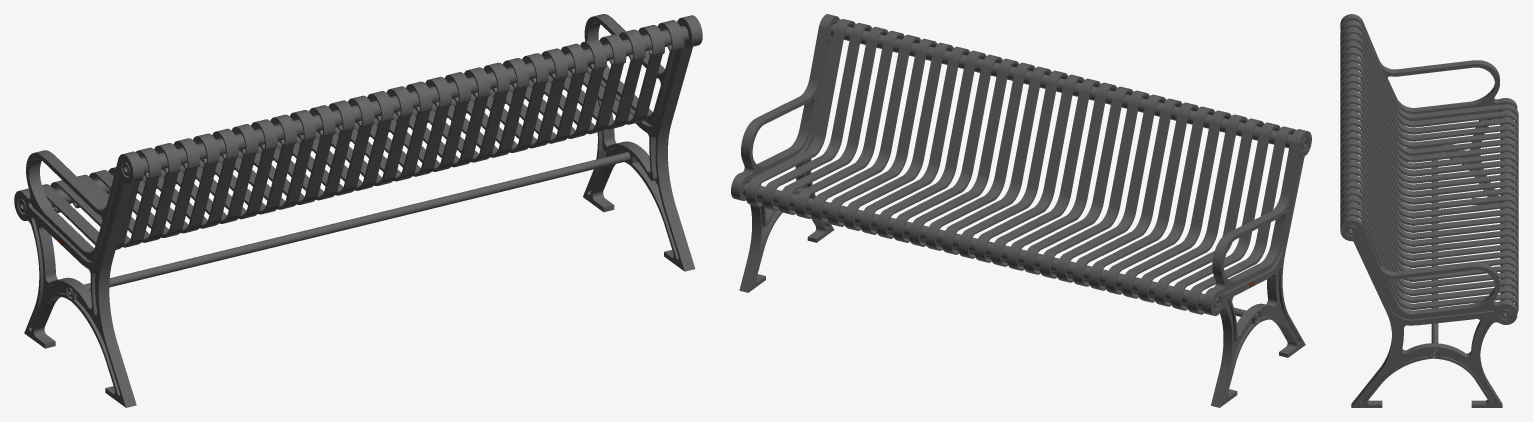
The picture shows the model from 3 angles, left to right: view 1: azimuth 30°, elevation 25°; view 2: azimuth 150°, elevation 25°; view 3: azimuth 270°, elevation 25°; orthographic projection. The views are drawn at different scales.
Visible parts, largest first — view 1: mesh95_mesh95-geometry, mesh1_mesh1-geometry, mesh94_mesh94-geometry, mesh132_mesh132-geometry, mesh78_mesh78-geometry, mesh46_mesh46-geometry, mesh36_mesh36-geometry, mesh48_mesh48-geometry, mesh66_mesh66-geometry, mesh64_mesh64-geometry, mesh60_mesh60-geometry, mesh70_mesh70-geometry (+21 smaller); view 2: mesh95_mesh95-geometry, mesh1_mesh1-geometry, mesh133_mesh133-geometry, mesh132_mesh132-geometry, mesh34_mesh34-geometry, mesh50_mesh50-geometry, mesh76_mesh76-geometry, mesh84_mesh84-geometry, mesh44_mesh44-geometry, mesh70_mesh70-geometry, mesh64_mesh64-geometry, mesh66_mesh66-geometry (+20 smaller); view 3: mesh1_mesh1-geometry, mesh95_mesh95-geometry, mesh36_mesh36-geometry, mesh38_mesh38-geometry, mesh42_mesh42-geometry, mesh54_mesh54-geometry, mesh80_mesh80-geometry, mesh46_mesh46-geometry, mesh56_mesh56-geometry, mesh62_mesh62-geometry, mesh66_mesh66-geometry, mesh68_mesh68-geometry (+21 smaller).
Part boxes in pixels (x1=…): mesh95_mesh95-geometry: x1=14, y1=150, x2=143, y2=407; mesh1_mesh1-geometry: x1=582, y1=14, x2=702, y2=271; mesh94_mesh94-geometry: x1=84, y1=152, x2=630, y2=291; mesh132_mesh132-geometry: x1=140, y1=26, x2=688, y2=174; mesh78_mesh78-geometry: x1=50, y1=143, x2=180, y2=247; mesh46_mesh46-geometry: x1=73, y1=138, x2=200, y2=242; mesh36_mesh36-geometry: x1=89, y1=133, x2=219, y2=237; mesh48_mesh48-geometry: x1=42, y1=147, x2=161, y2=249; mesh66_mesh66-geometry: x1=108, y1=128, x2=238, y2=233; mesh64_mesh64-geometry: x1=137, y1=124, x2=258, y2=228; mesh60_mesh60-geometry: x1=350, y1=72, x2=471, y2=176; mesh70_mesh70-geometry: x1=195, y1=110, x2=316, y2=214; mesh95_mesh95-geometry: x1=1202, y1=129, x2=1311, y2=407; mesh1_mesh1-geometry: x1=731, y1=14, x2=839, y2=292; mesh133_mesh133-geometry: x1=742, y1=182, x2=1204, y2=307; mesh132_mesh132-geometry: x1=830, y1=23, x2=1292, y2=148; mesh34_mesh34-geometry: x1=958, y1=70, x2=1067, y2=258; mesh50_mesh50-geometry: x1=860, y1=46, x2=969, y2=234; mesh76_mesh76-geometry: x1=1007, y1=82, x2=1116, y2=270; mesh84_mesh84-geometry: x1=909, y1=58, x2=1018, y2=246; mesh44_mesh44-geometry: x1=746, y1=19, x2=855, y2=206; mesh70_mesh70-geometry: x1=1056, y1=94, x2=1165, y2=282; mesh64_mesh64-geometry: x1=1105, y1=106, x2=1214, y2=294; mesh66_mesh66-geometry: x1=1121, y1=110, x2=1231, y2=298; mesh1_mesh1-geometry: x1=1340, y1=216, x2=1517, y2=407; mesh95_mesh95-geometry: x1=1340, y1=14, x2=1517, y2=205; mesh36_mesh36-geometry: x1=1340, y1=41, x2=1518, y2=148; mesh38_mesh38-geometry: x1=1340, y1=83, x2=1518, y2=190; mesh42_mesh42-geometry: x1=1340, y1=62, x2=1518, y2=169; mesh54_mesh54-geometry: x1=1340, y1=168, x2=1518, y2=274; mesh80_mesh80-geometry: x1=1340, y1=105, x2=1518, y2=211; mesh46_mesh46-geometry: x1=1340, y1=34, x2=1518, y2=141; mesh56_mesh56-geometry: x1=1340, y1=126, x2=1518, y2=232; mesh62_mesh62-geometry: x1=1340, y1=147, x2=1518, y2=253; mesh66_mesh66-geometry: x1=1340, y1=48, x2=1518, y2=155; mesh68_mesh68-geometry: x1=1340, y1=90, x2=1518, y2=197.
Size of the model in its own units: 0.8727 by 0.3699 by 0.3186.
